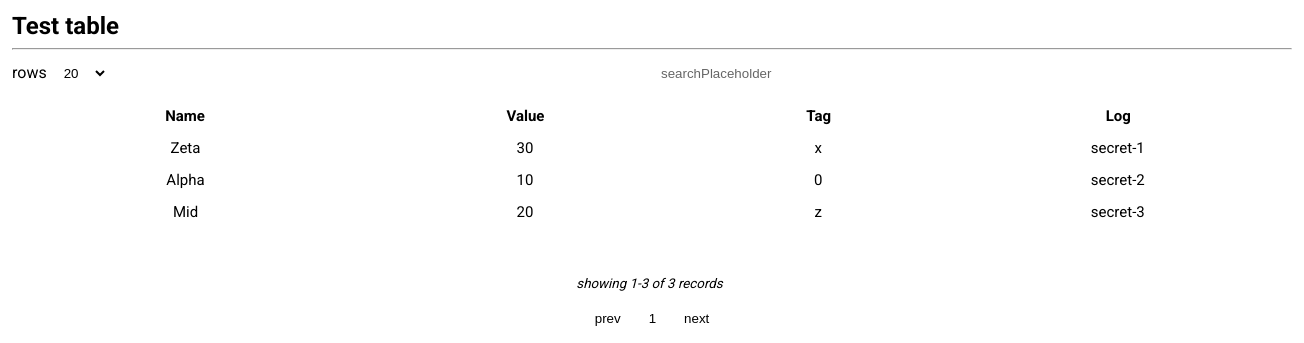
Test: Table sorting › resets to the original dataset order and clears the arrow on a third click of the same column
Click the column heading "Name": [185, 116] box [12, 99, 358, 132]
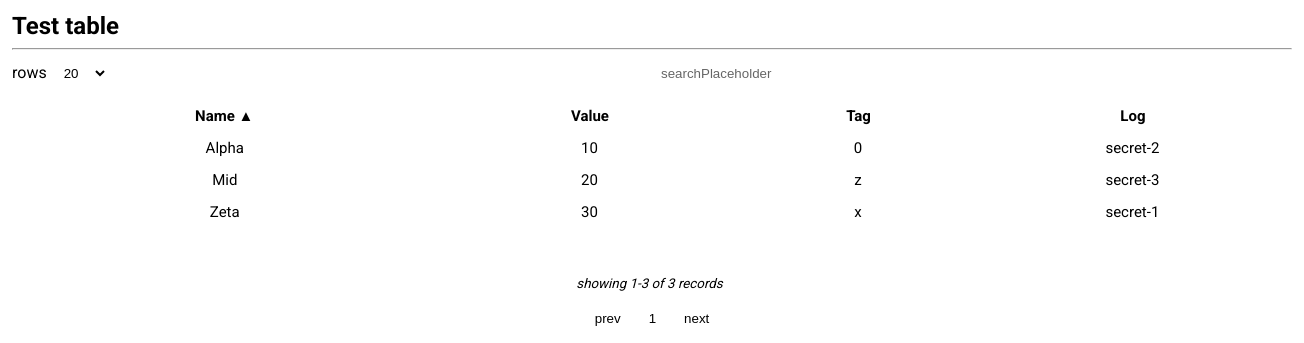
Click the column heading "Name ▲": [224, 116] box [12, 99, 436, 132]
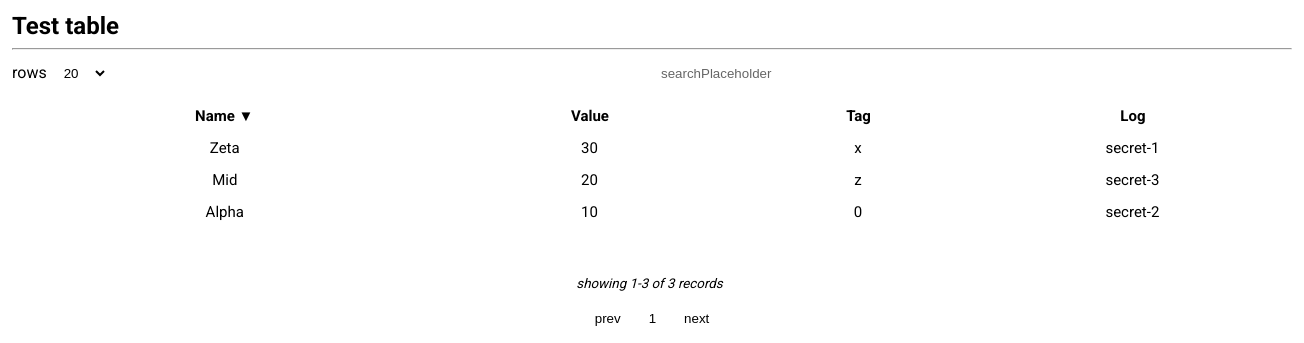
Click the column heading "Name ▼": [224, 116] box [12, 99, 436, 132]
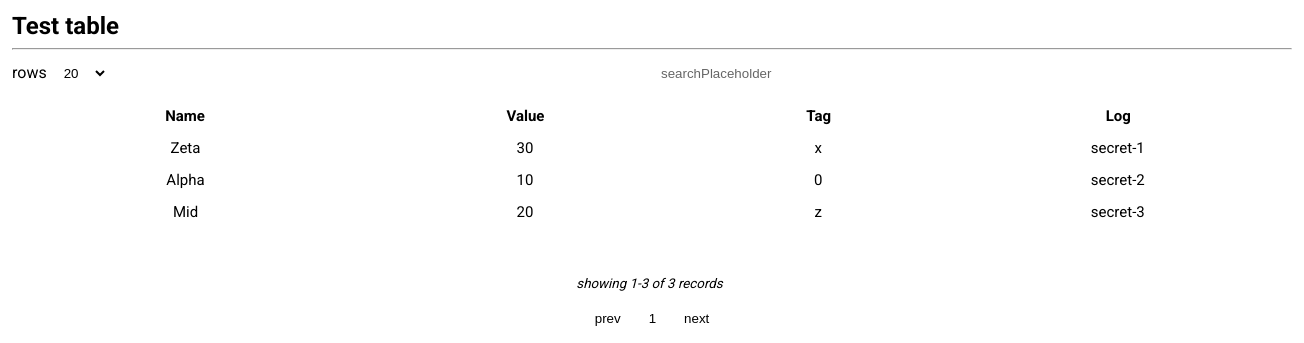
Expected: the column heading "Name" is shown, [12, 99, 358, 132]
